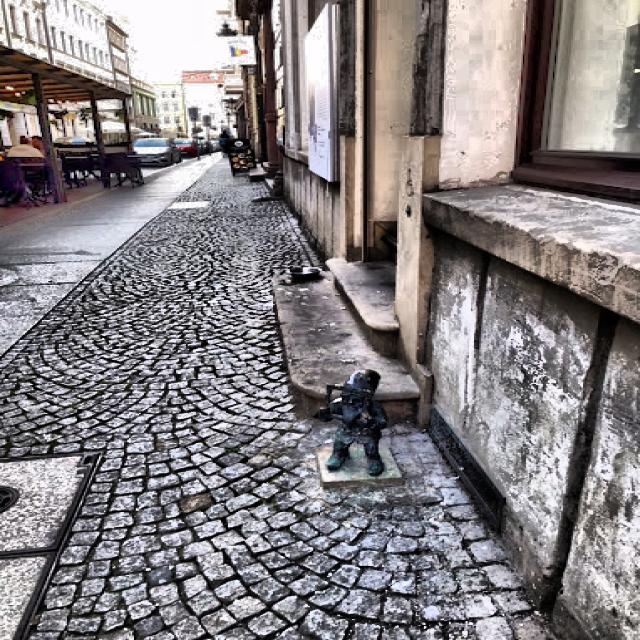Galeriusz: (314, 370, 387, 474)
